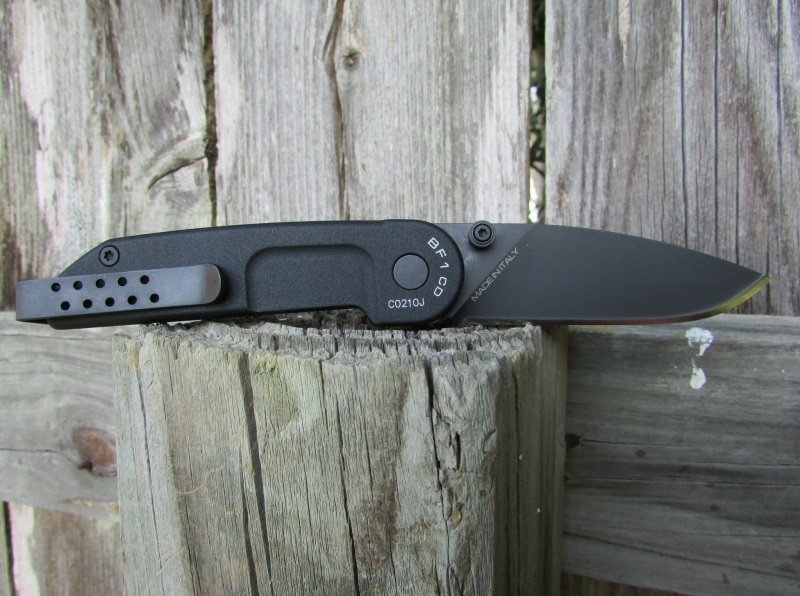knife: (400, 215, 787, 335)
